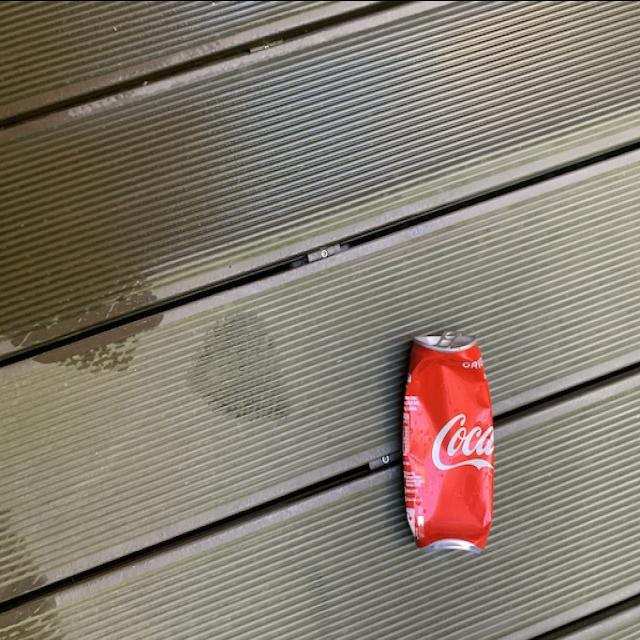Aluminum Can: (399, 322, 499, 562)
